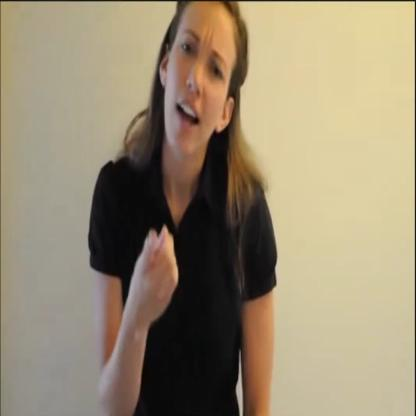HowAreYou: (117, 210, 246, 372)
